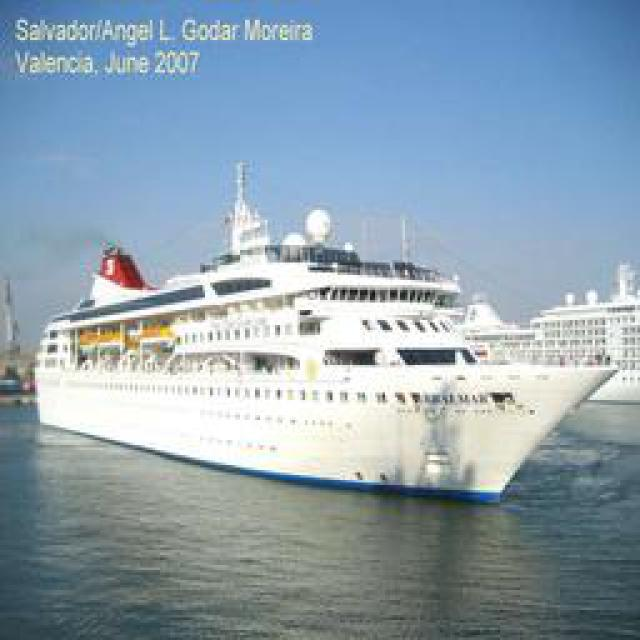Ship: (30, 184, 618, 504)
